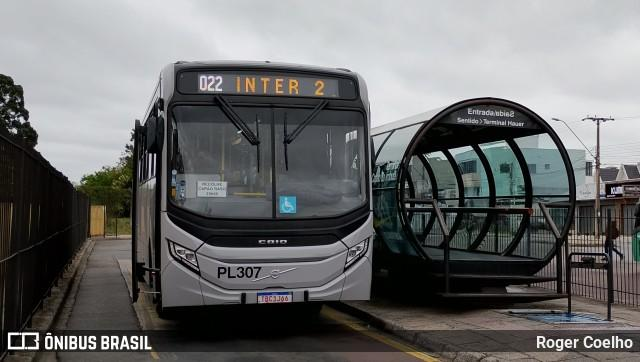INTER2: (232, 74, 328, 98)
